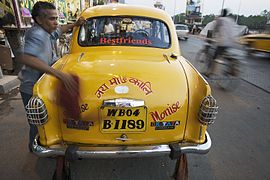number_plate: (98, 105, 148, 133)
